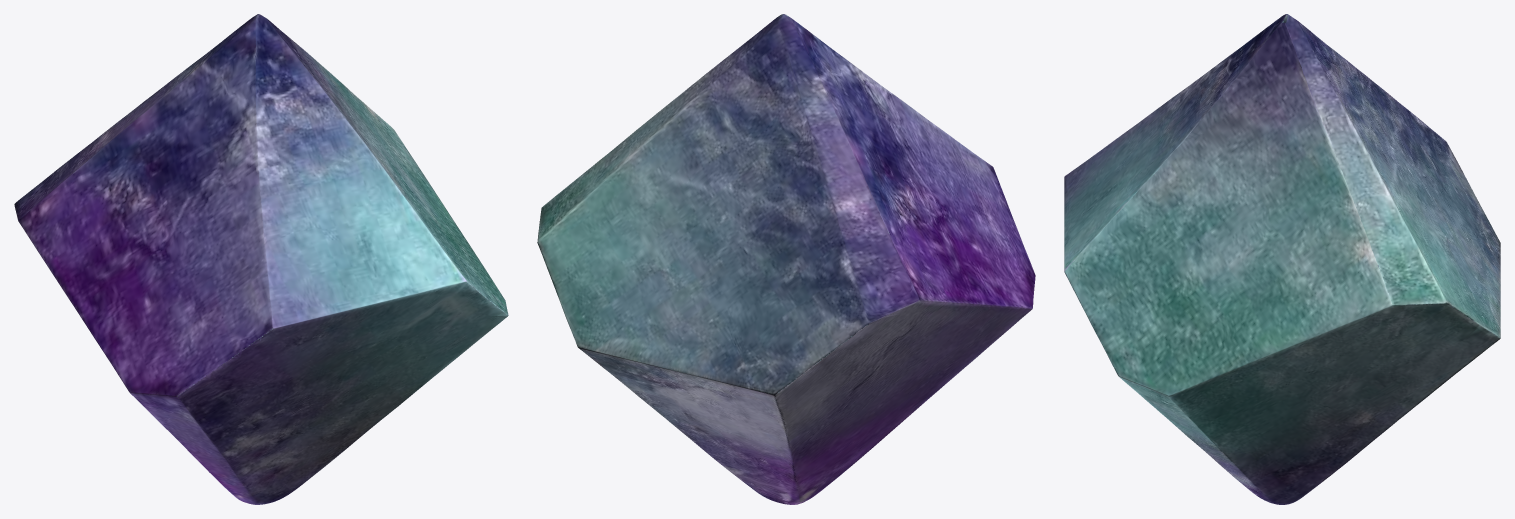
Rendered from fluorite.glb.
3 renders of one model, left to right at view 1: azimuth 30°, elevation 25°; view 2: azimuth 150°, elevation 25°; view 3: azimuth 270°, elevation 25°, orthographic.
Parts seen in each view (by area): view 1: fluorite; view 2: fluorite; view 3: fluorite.
Boxes of the visible parts, x1=… form: fluorite: x1=14, y1=14, x2=508, y2=504; fluorite: x1=537, y1=14, x2=1035, y2=504; fluorite: x1=1064, y1=14, x2=1500, y2=504.
Bounding box in the file's own units: 0.8106 × 1 × 0.8136.
Materials: 1 (1 with a texture image).
